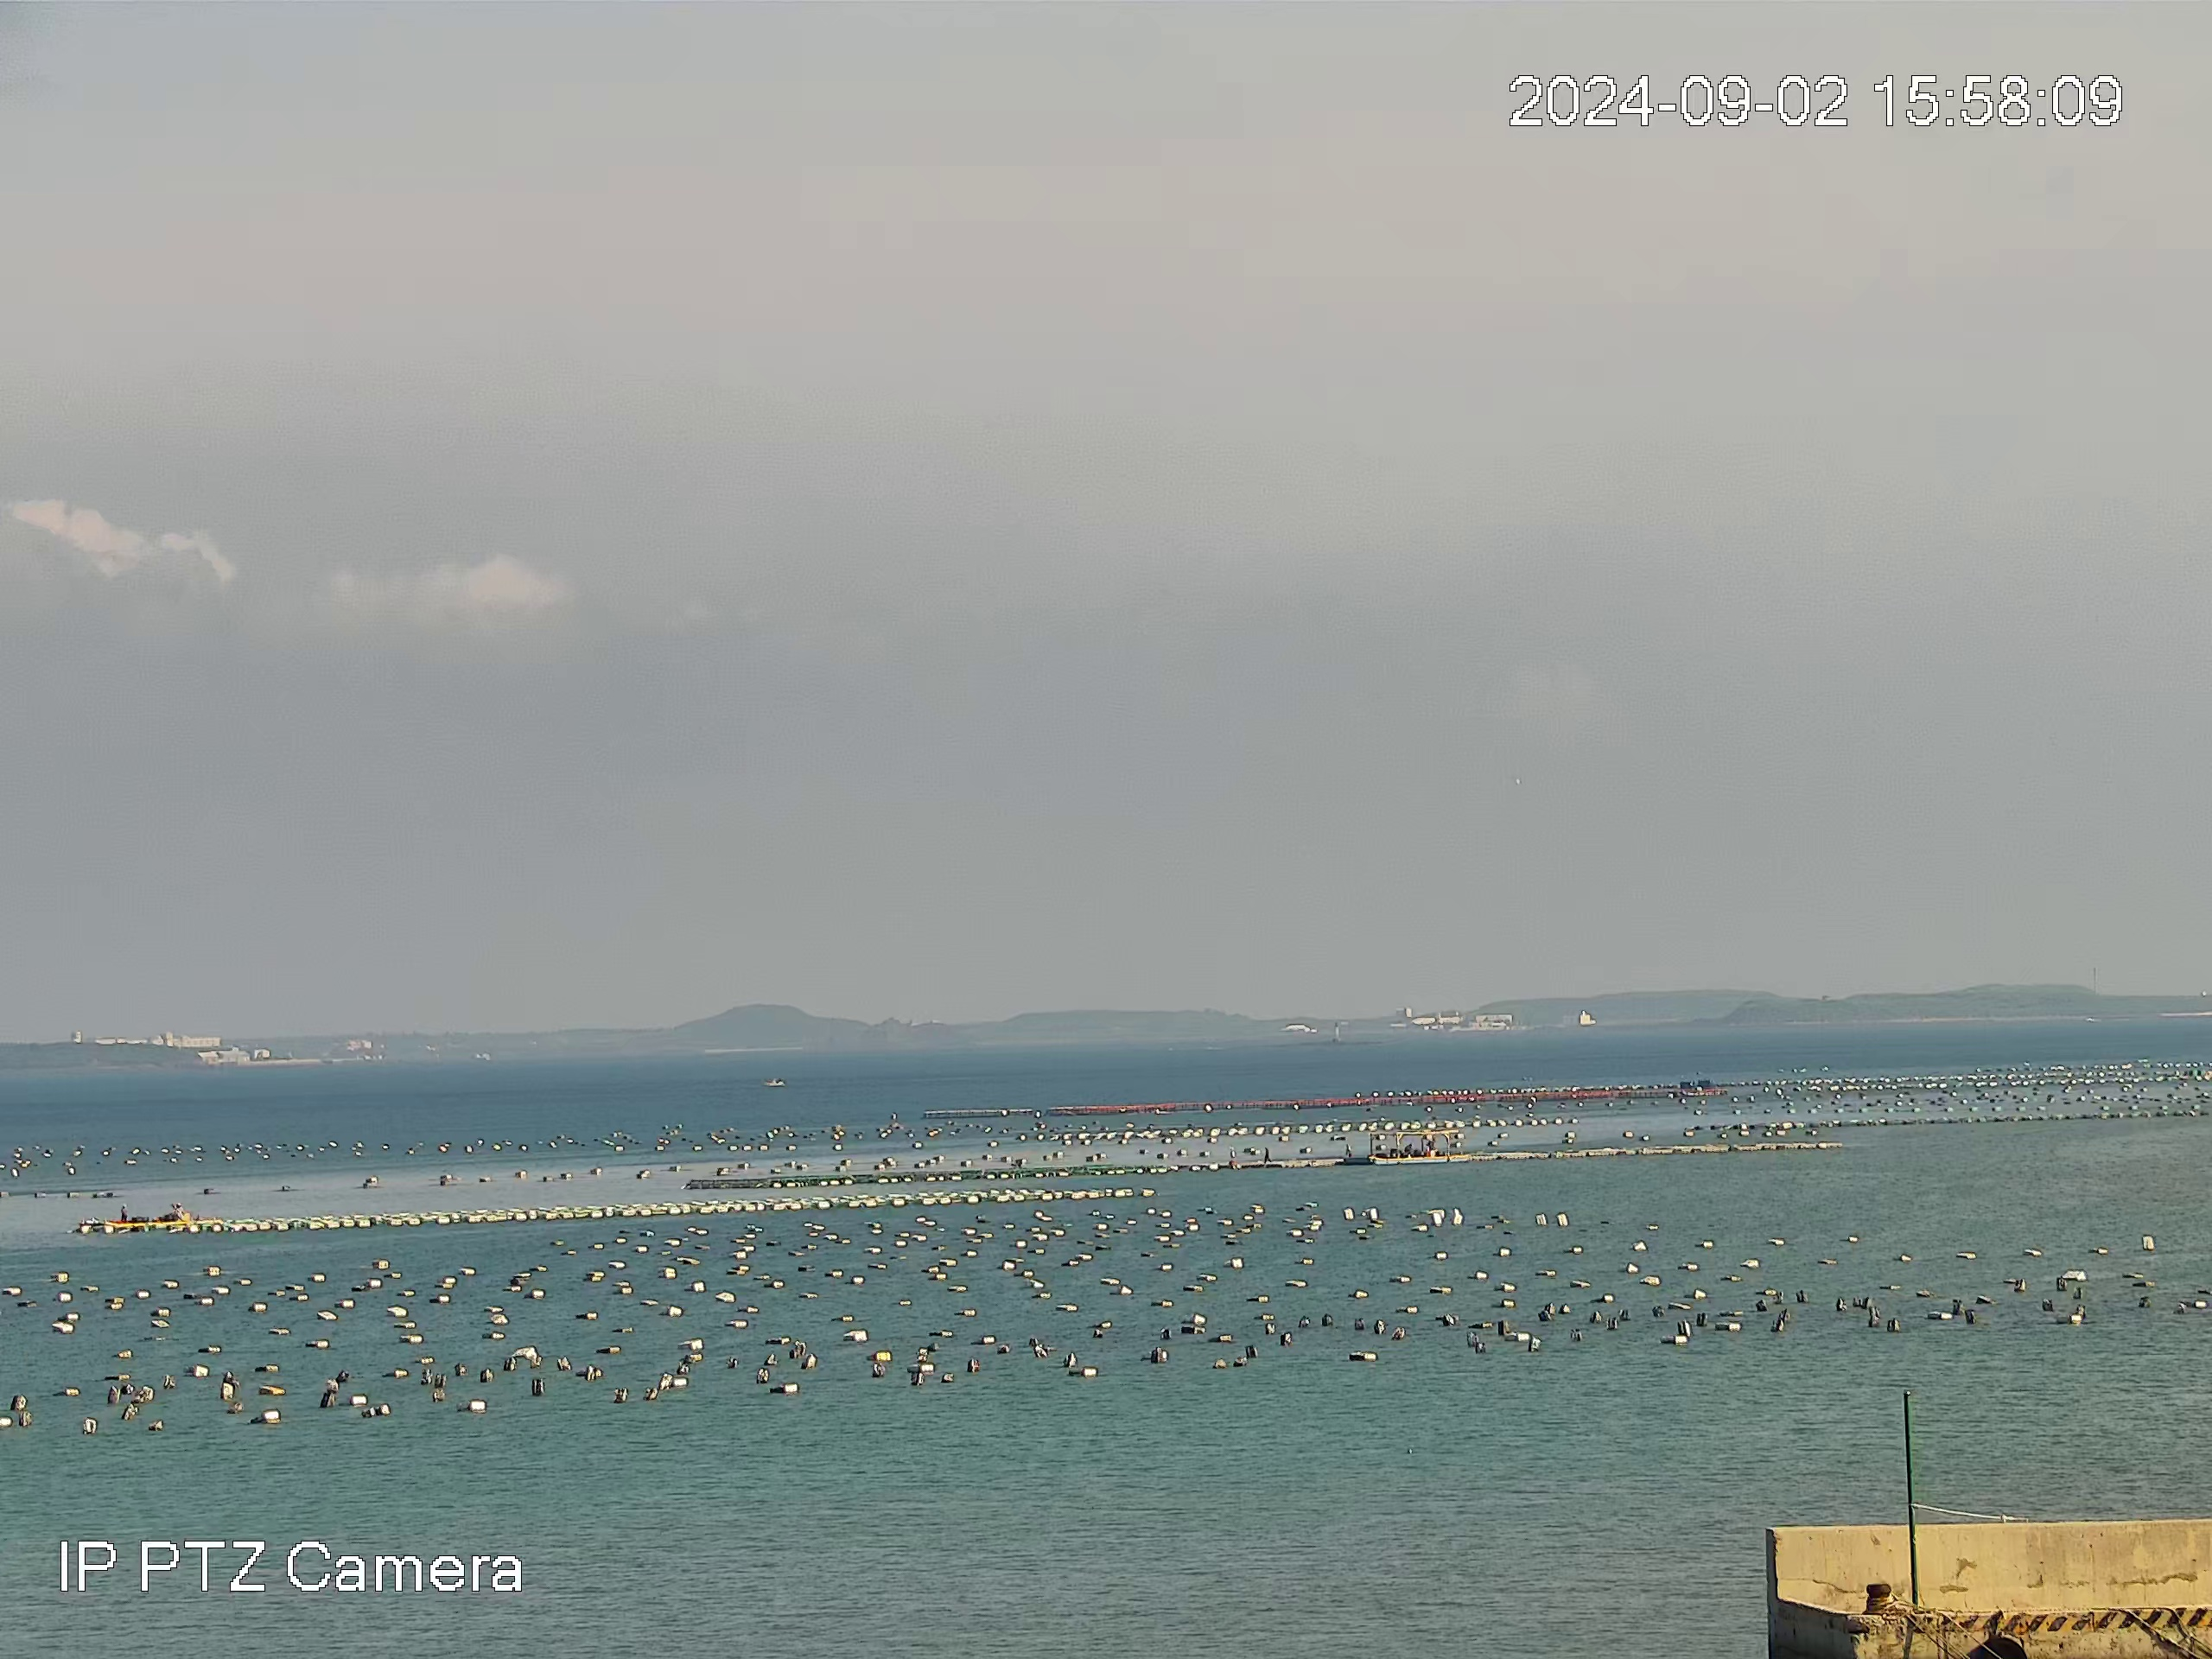boat: (1366, 1127, 1470, 1167), (102, 1201, 226, 1226), (763, 1077, 786, 1088)
